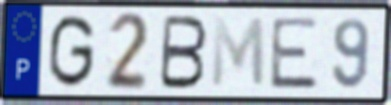2: (105, 10, 151, 94)
9: (329, 16, 372, 91)
B: (157, 13, 211, 92)
E: (268, 15, 322, 92)
G: (46, 12, 98, 90)
M: (209, 15, 267, 91)
